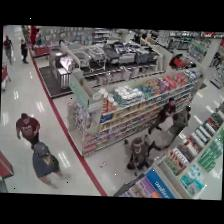person: (32, 143, 69, 189), (127, 135, 159, 169), (164, 106, 190, 147), (148, 98, 175, 134), (15, 113, 39, 149), (3, 36, 12, 64), (20, 40, 27, 63)
